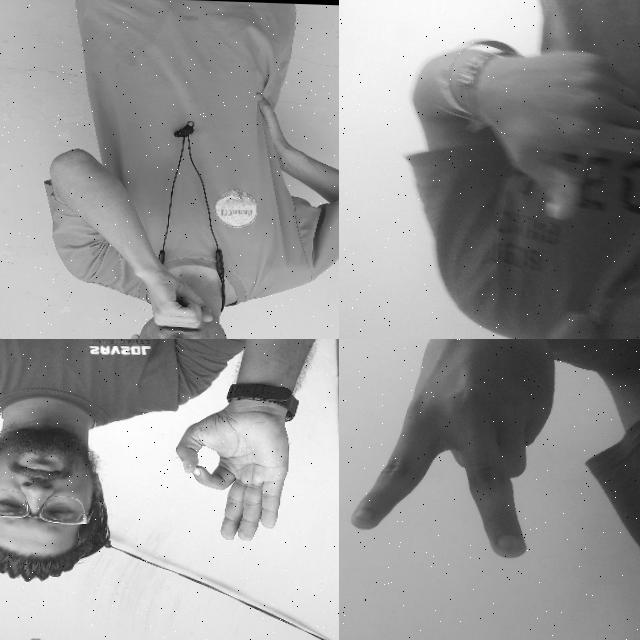Fist Mouth: (106, 259, 254, 339)
Five Fathers: (446, 34, 640, 238)
Okay: (168, 386, 298, 552)
Reversed Victory: (340, 339, 559, 572)
